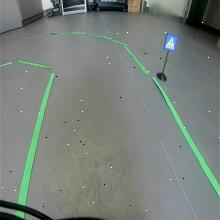crosswalk: (163, 33, 178, 52)
